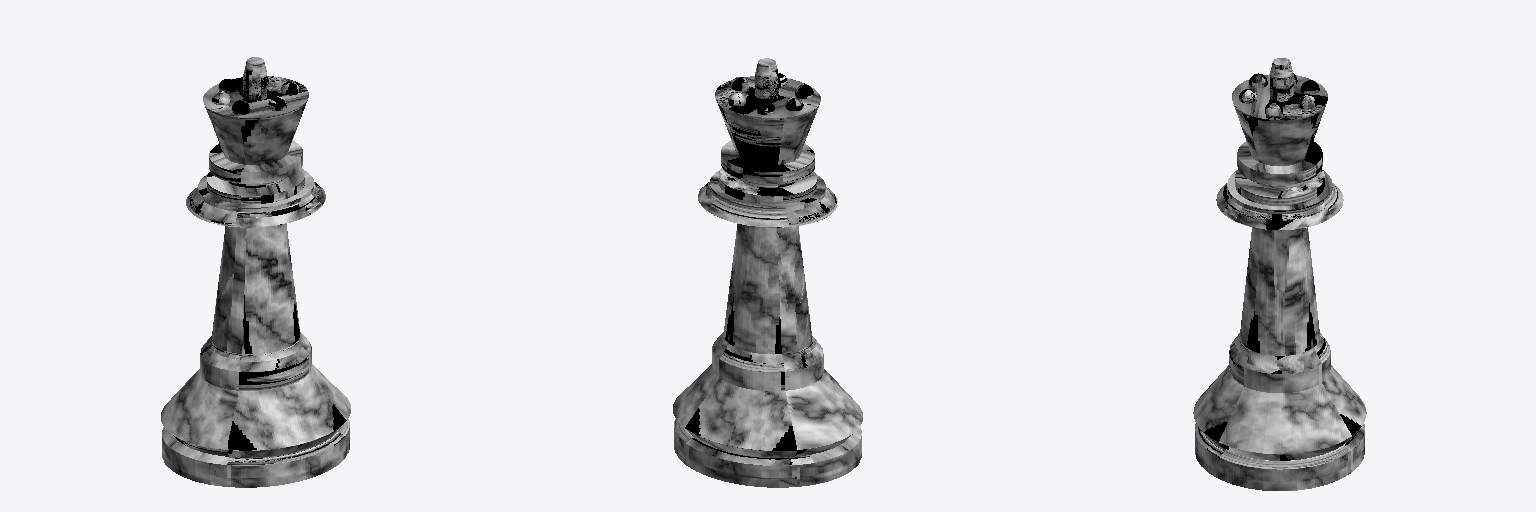
3 views of the same model, side by side, from view 1: azimuth 30°, elevation 25°; view 2: azimuth 150°, elevation 25°; view 3: azimuth 270°, elevation 25° (orthographic).
Visible parts, largest first — view 1: Cylinder_Cylinder.001; view 2: Cylinder_Cylinder.001; view 3: Cylinder_Cylinder.001.
Boxes of the visible parts, x1=… form: Cylinder_Cylinder.001: x1=161, y1=57, x2=350, y2=487; Cylinder_Cylinder.001: x1=673, y1=58, x2=862, y2=487; Cylinder_Cylinder.001: x1=1193, y1=58, x2=1366, y2=490.
Bounding box in the file's own units: 2.31 × 5.03 × 2.03.
Materials: 1 (1 with a texture image).